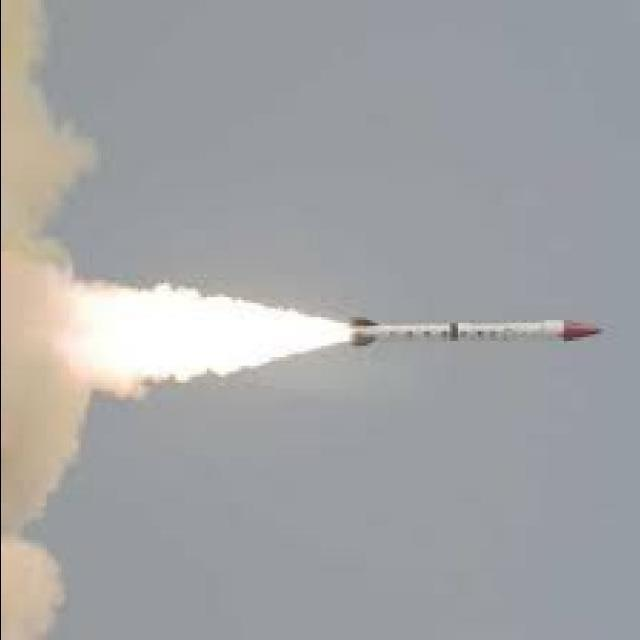missile: (339, 307, 610, 373)
